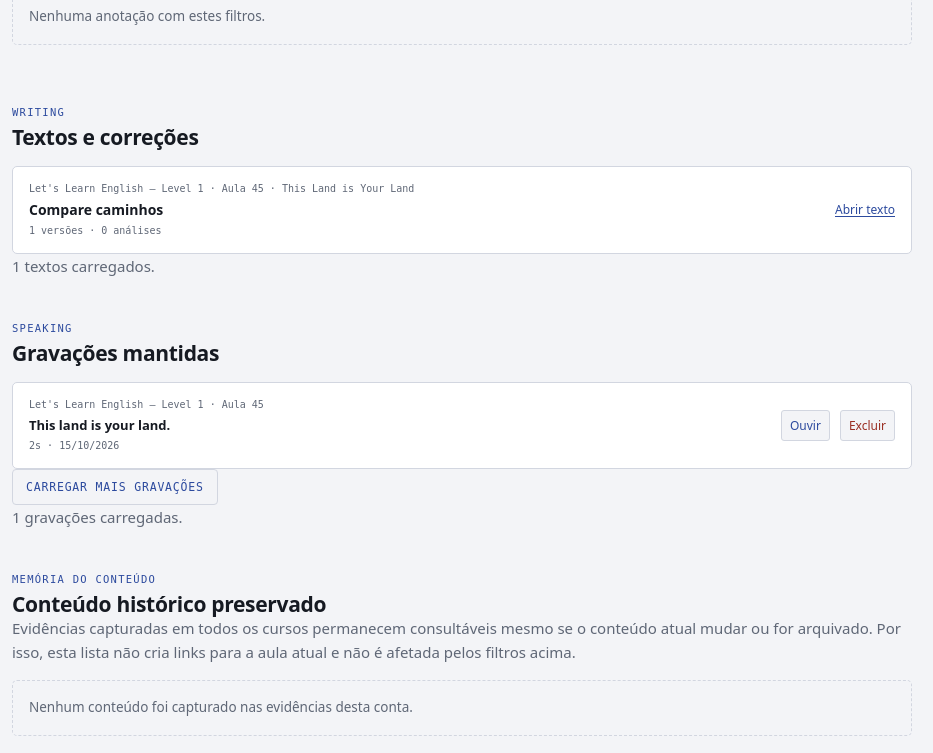
it: NotebookPage › carrega mais gravações sem perder a página anterior e preserva o foco
(page scrolled)
Check: the text "This land is your land." is shown, box [29,416,170,434]
Click the button "Carregar mais gravações": (115, 487) [12,469,218,505]
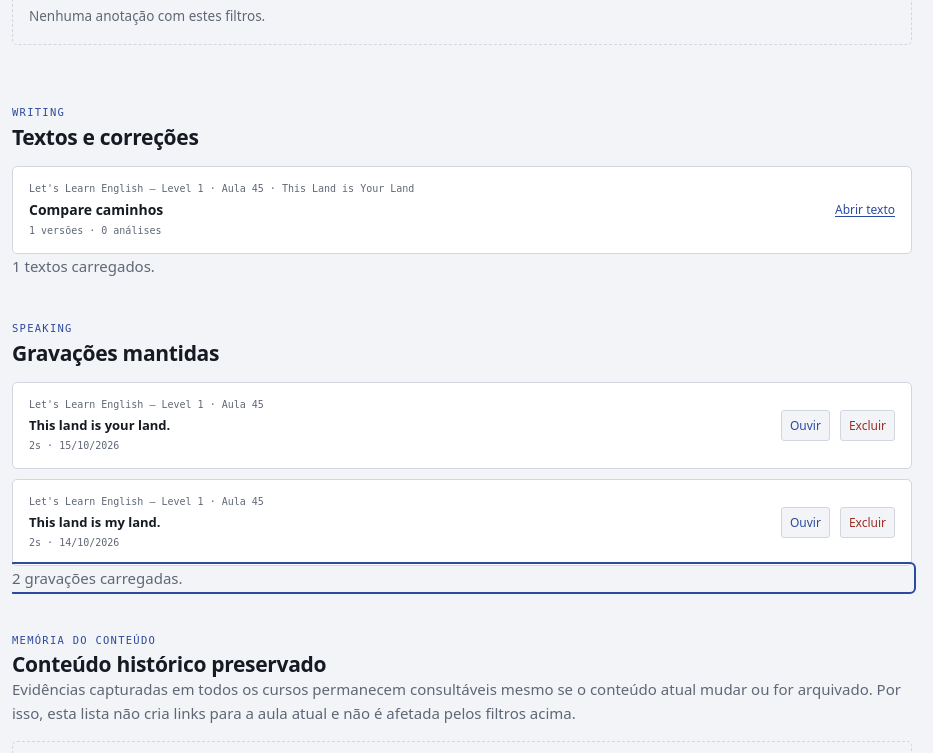
Check: the text "This land is your land." is shown, box [29,416,170,434]
Check: the text "This land is my land." is shown, box [29,513,160,531]
Click the button "Excluir" in the row of "This land is my land.": (867, 522) [840,507,895,538]
(page scrolled)
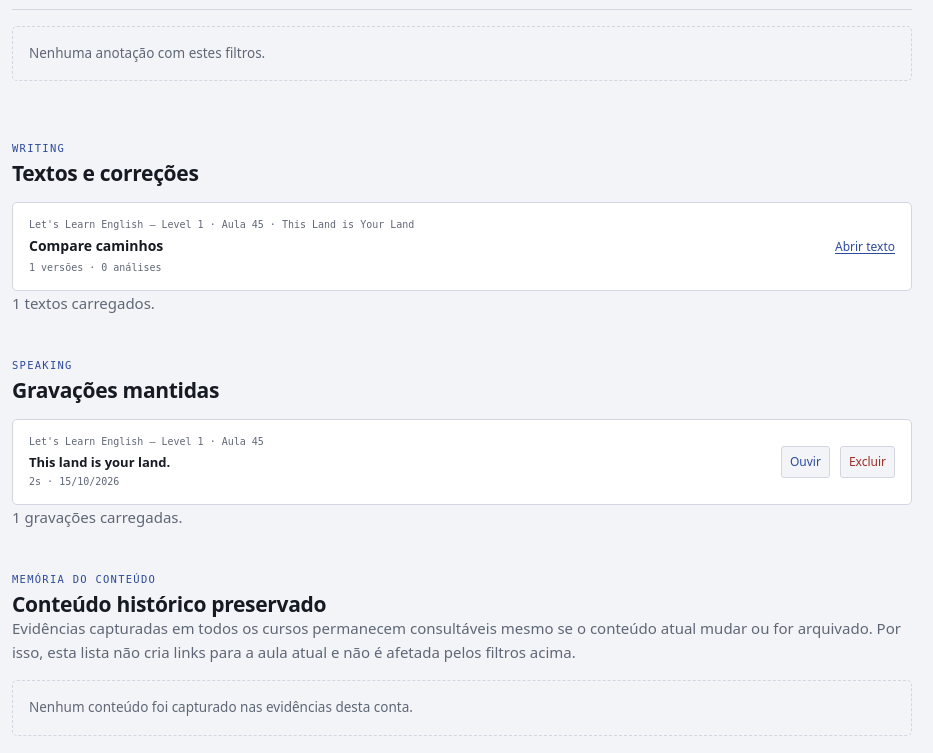
Check: the text "This land is your land." is shown, box [29,453,170,471]
Check: the text "This land is my land." is gone
